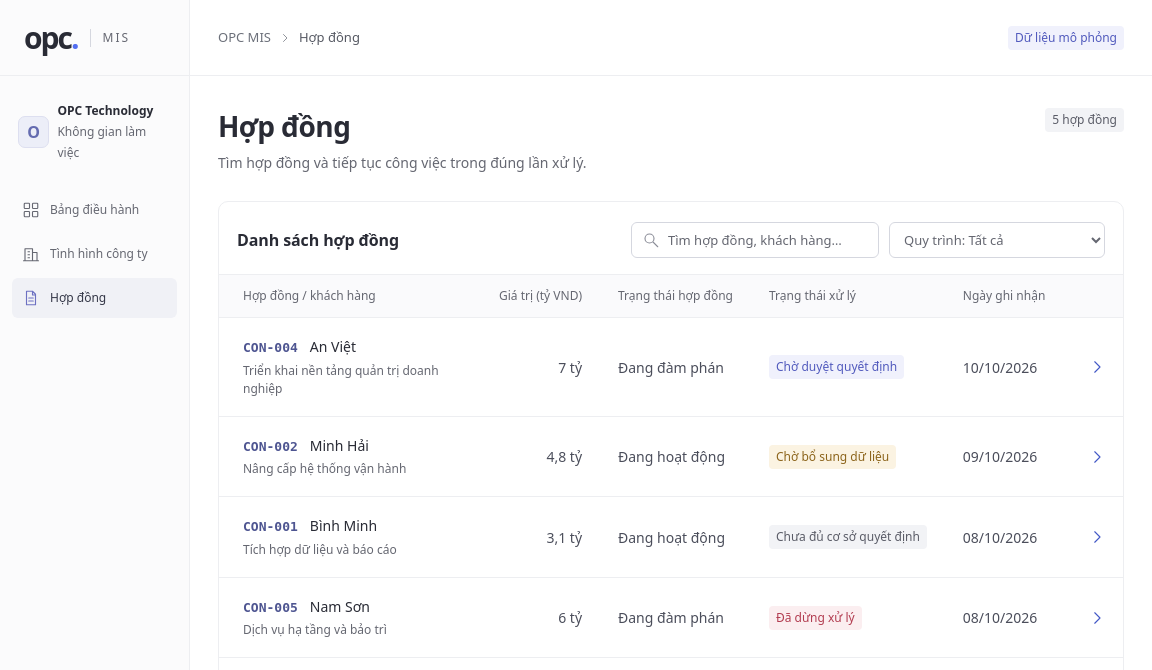
isolated executive preview › opens a contract from a non-link cell without changing the approval scope
The image size is (1152, 670).
Expected: the text "Chờ duyệt quyết định" is shown, [769,355,904,379]
Click the text "Đang đàm phán" next to "7 tỷ": (671, 367) [618,358,724,377]
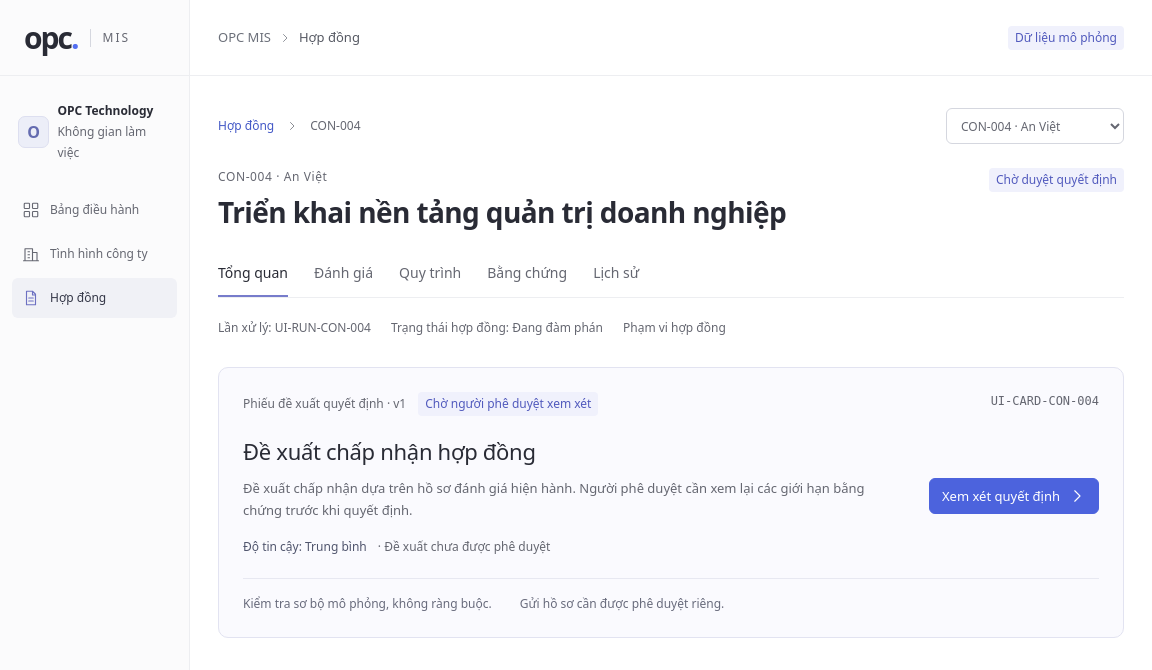
Expected: the heading "Triển khai nền tảng quản trị doanh nghiệp" is shown, [218,194,786,230]
